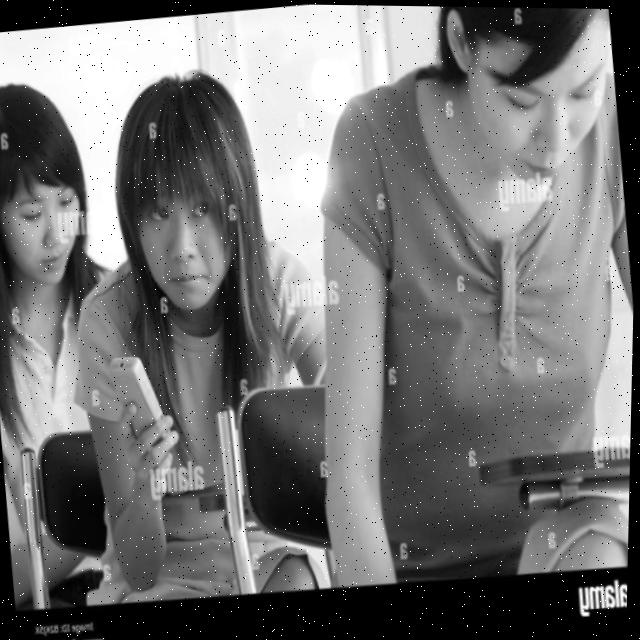phone: (107, 350, 177, 450)
